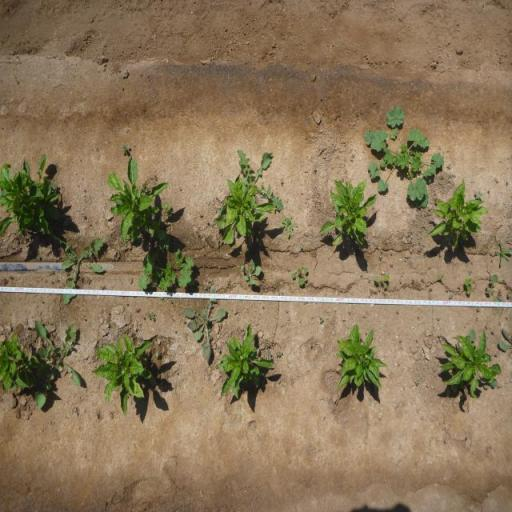plant: (102, 154, 173, 250), (89, 330, 154, 418), (0, 149, 61, 239), (425, 177, 491, 258), (318, 178, 376, 252), (442, 330, 500, 398), (221, 177, 278, 246), (220, 321, 268, 401), (337, 323, 388, 393), (0, 328, 35, 397)
weed: (364, 103, 445, 202), (34, 318, 84, 413), (55, 233, 106, 307), (236, 147, 290, 212), (136, 236, 196, 291), (182, 288, 224, 362), (492, 238, 512, 270), (240, 258, 262, 287), (290, 264, 311, 288), (280, 213, 299, 239), (486, 272, 500, 302), (373, 272, 391, 292), (464, 276, 474, 298), (162, 200, 172, 216), (202, 279, 216, 290), (120, 143, 131, 153), (262, 350, 272, 360), (474, 190, 484, 200), (146, 310, 155, 320), (378, 248, 384, 262), (413, 280, 421, 290), (1, 276, 9, 286), (370, 287, 378, 296), (312, 164, 318, 174), (318, 316, 325, 324), (226, 279, 232, 288), (154, 350, 160, 359), (47, 270, 56, 276), (276, 350, 282, 358), (270, 281, 276, 289), (506, 291, 512, 299), (448, 172, 454, 179), (154, 173, 159, 181), (437, 276, 443, 282), (448, 294, 454, 300), (446, 163, 451, 170), (476, 306, 481, 312), (9, 274, 14, 280), (416, 379, 418, 387)
